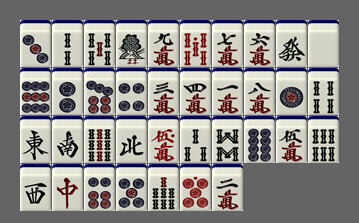0m: (148, 116, 179, 163)
0p: (180, 164, 211, 211)
0s: (180, 20, 211, 67)
1m: (212, 68, 243, 115)
1p: (276, 68, 307, 115)
1s: (116, 20, 147, 67)
1z: (20, 116, 51, 163)
2m: (212, 164, 243, 211)
2p: (52, 68, 83, 115)
2s: (52, 20, 83, 67)
2z: (52, 116, 83, 163)
3m: (148, 68, 179, 115)
3p: (20, 20, 51, 67)
3s: (180, 116, 211, 163)
3z: (20, 164, 51, 211)
4m: (180, 68, 211, 115)
4p: (116, 68, 147, 115)
4s: (308, 68, 339, 115)
4z: (116, 116, 147, 163)
5m: (276, 116, 307, 163)
5p: (116, 164, 147, 211)
5s: (84, 20, 115, 67)
5z: (308, 20, 339, 67)
6m: (244, 20, 275, 67)
6p: (84, 164, 115, 211)
6s: (308, 116, 339, 163)
6z: (276, 20, 307, 67)
7m: (212, 20, 243, 67)
7p: (84, 68, 115, 115)
7s: (148, 164, 179, 211)
7z: (52, 164, 83, 211)
8m: (244, 68, 275, 115)
8p: (244, 116, 275, 163)
8s: (212, 116, 243, 163)
9m: (148, 20, 179, 67)
9p: (20, 68, 51, 115)
9s: (84, 116, 115, 163)
